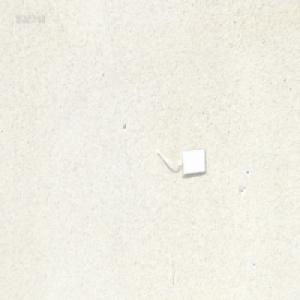LuggageTag: (155, 147, 206, 176)
